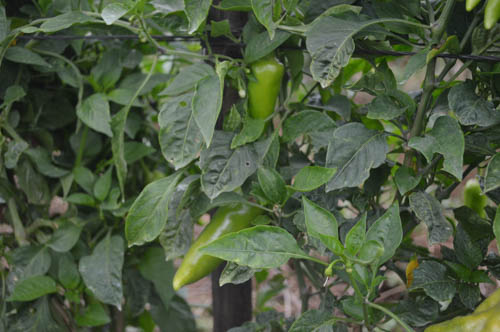ChiliPepper: (170, 206, 253, 291), (248, 60, 283, 132)
